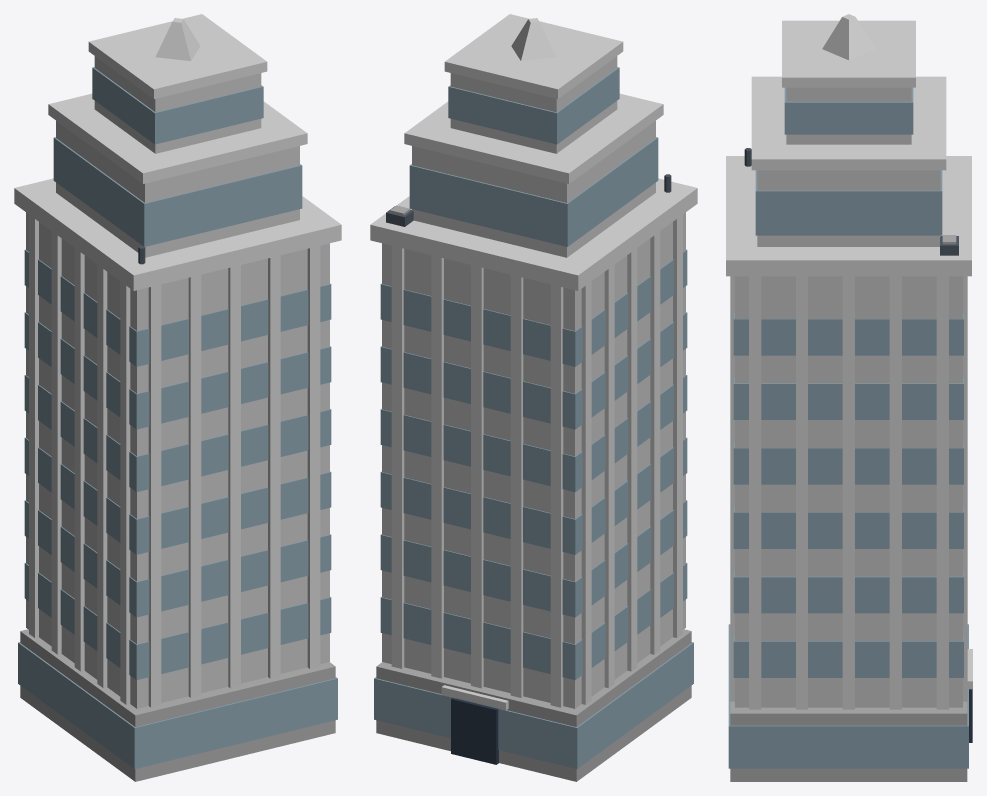
Rendered from building_medium_deco.glb.
3 renders of one model, left to right at view 1: azimuth 30°, elevation 25°; view 2: azimuth 150°, elevation 25°; view 3: azimuth 270°, elevation 25°, orthographic. The views are drawn at different scales.
Parts seen in each view (by area): view 1: building_medium_deco; view 2: building_medium_deco; view 3: building_medium_deco.
Boxes of the visible parts, x1,y1,x2,y2 form: building_medium_deco: (14,14,341,781); building_medium_deco: (370,14,697,781); building_medium_deco: (726,14,972,781).
Size of the model in its own units: 11.22 by 35.83 by 11.22.
